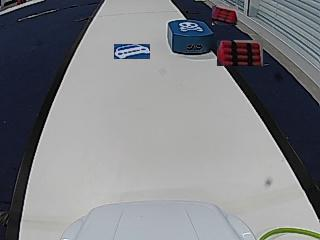danger: (179, 21, 202, 32)
